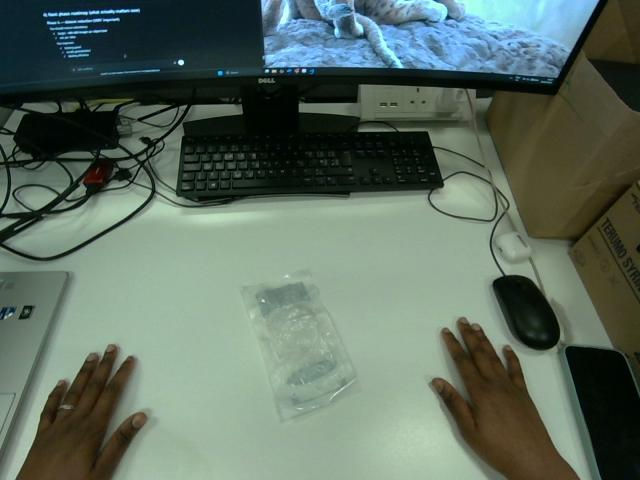gallipot: (241, 270, 355, 420)
